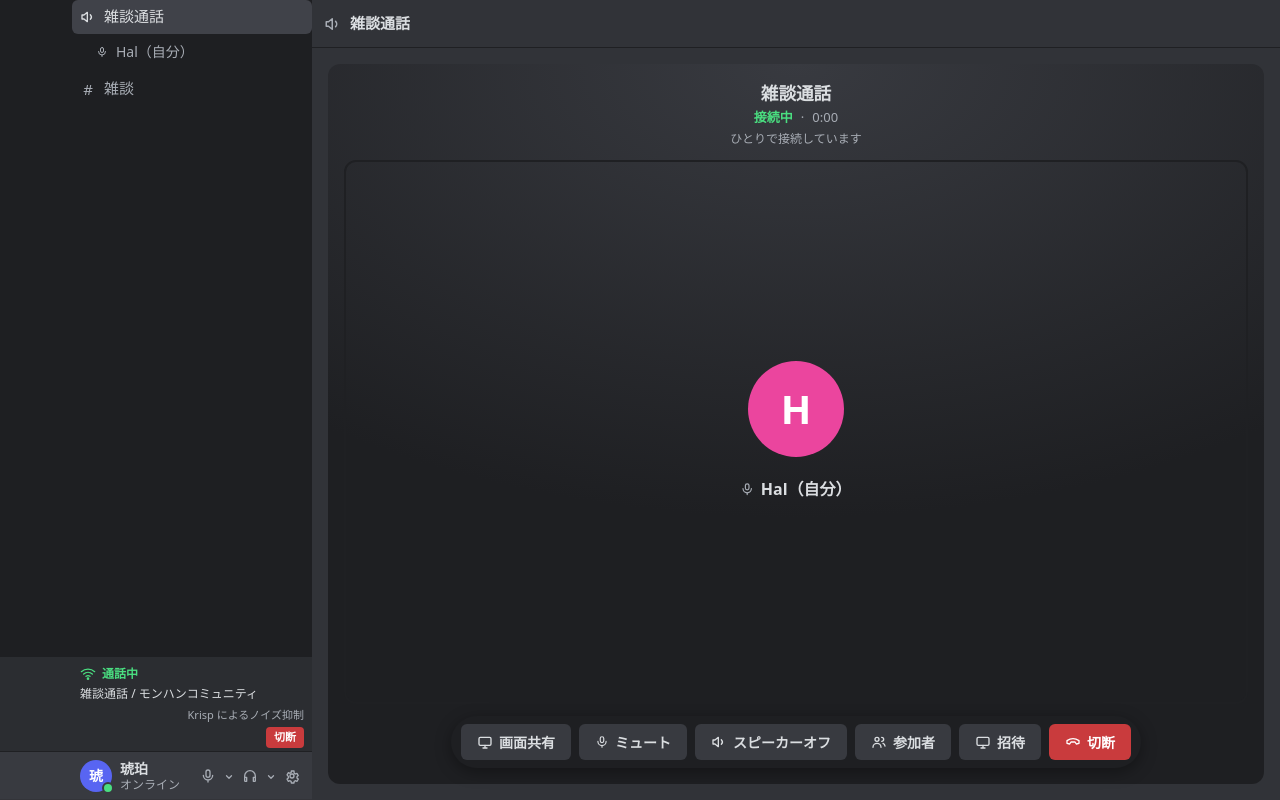
VoiceChannelView › 左下から切断し、画面の参加ボタン・同じVC・テキストチャンネル経由で再参加できる
Later steps or results of the test are not shown.
Click the button "切断" below "Krisp によるノイズ抑制". click: {"x": 285, "y": 737}
box: [266, 727, 304, 748]
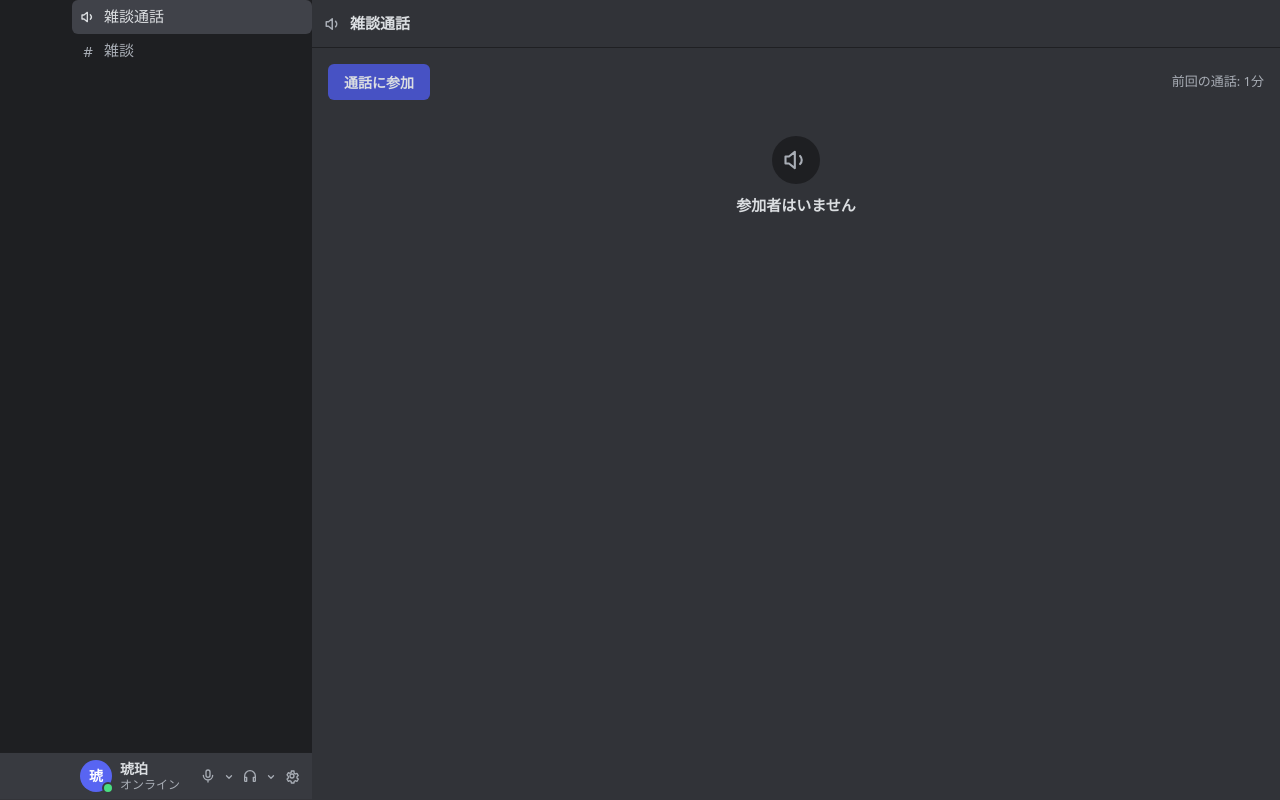
Now the text "参加者はいません" is shown, box [736, 194, 856, 216]
Click the button "通話に参加". click: {"x": 379, "y": 82}
box: [328, 64, 430, 100]
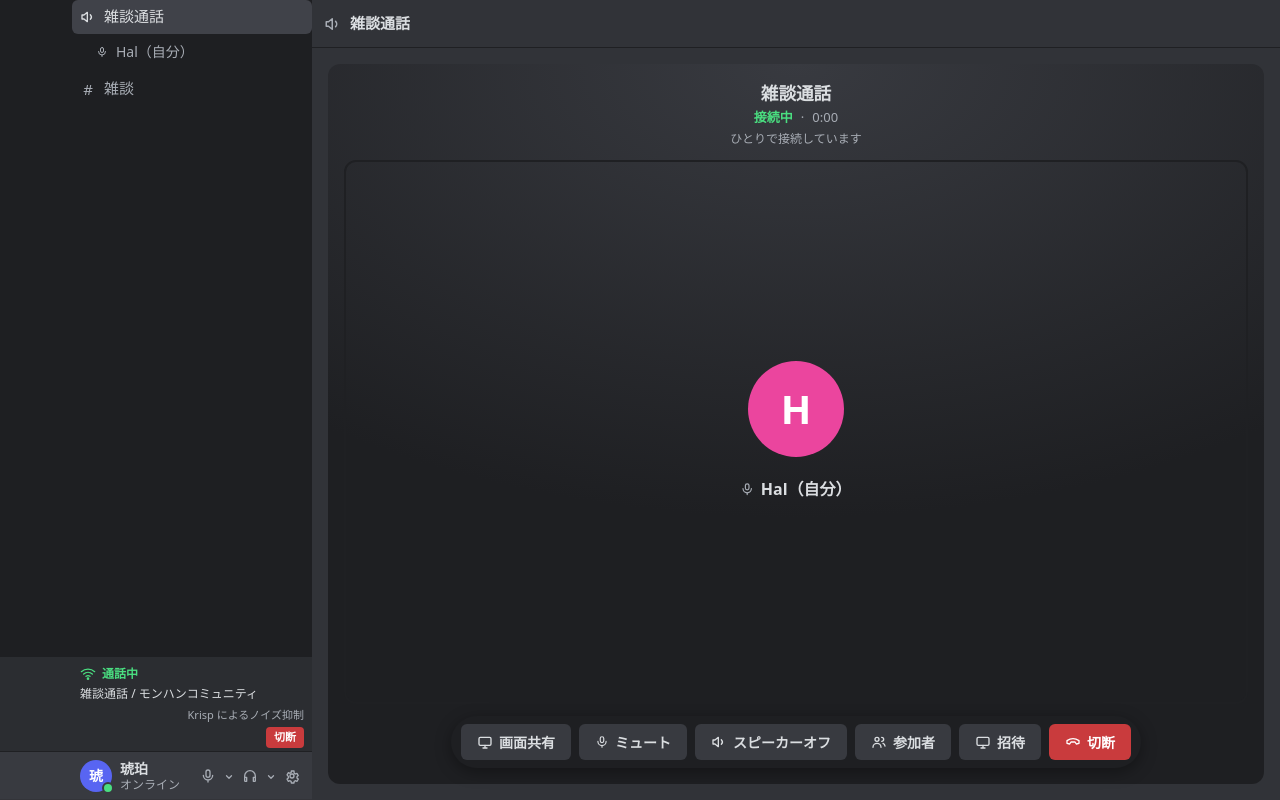
Now the 2nd text "Hal（自分）" is shown, box [761, 477, 852, 501]
